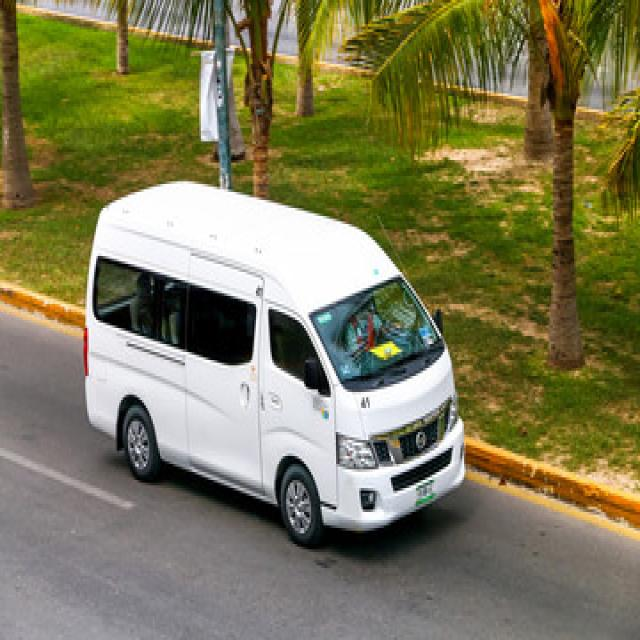van: (84, 181, 464, 544)
